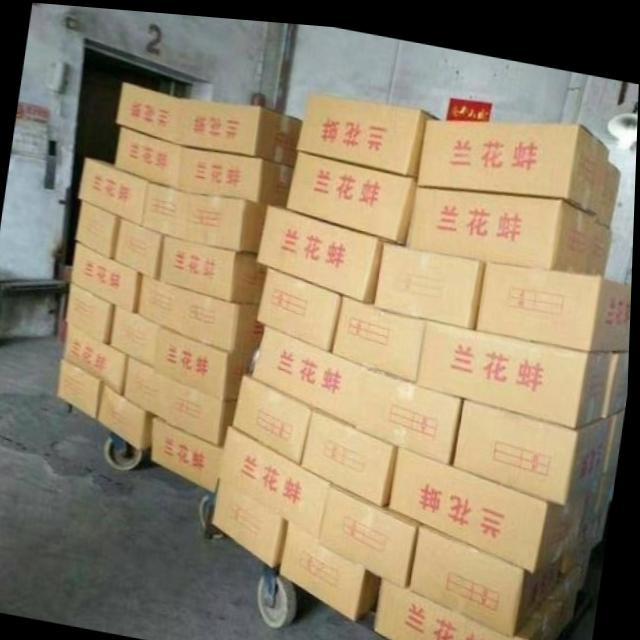box: (393, 437, 591, 563), (420, 312, 615, 418), (419, 112, 610, 205), (457, 389, 614, 497), (416, 516, 565, 626), (406, 178, 597, 262), (379, 567, 568, 640), (479, 253, 633, 342), (257, 201, 394, 296), (221, 419, 334, 534), (298, 86, 437, 170), (290, 147, 418, 237), (252, 319, 365, 417), (322, 475, 427, 579), (356, 361, 466, 455), (282, 517, 386, 615), (126, 354, 241, 442), (140, 272, 268, 349), (376, 236, 488, 322), (302, 400, 400, 498), (143, 179, 269, 249), (175, 95, 303, 162), (336, 291, 428, 375), (157, 322, 258, 396), (160, 232, 269, 300), (259, 263, 345, 346), (236, 371, 317, 458), (180, 143, 295, 201), (215, 478, 292, 564), (153, 413, 230, 489), (71, 242, 144, 309), (79, 156, 150, 224), (66, 324, 130, 394), (98, 378, 159, 446), (117, 125, 182, 187), (117, 80, 182, 140), (110, 301, 160, 367), (67, 278, 117, 341), (59, 357, 108, 417), (116, 216, 164, 275), (76, 201, 121, 256), (555, 555, 583, 626), (584, 463, 610, 537), (605, 339, 631, 408), (590, 207, 615, 265), (600, 151, 621, 216), (607, 398, 626, 461)
